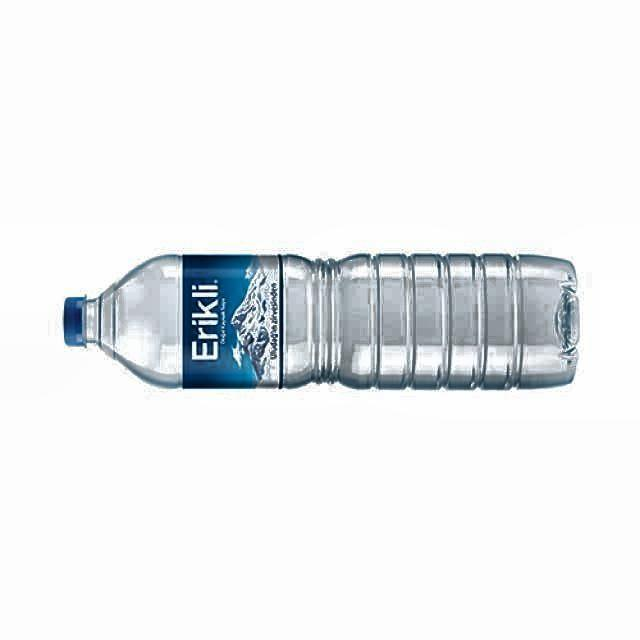plastic: (64, 255, 579, 388)
